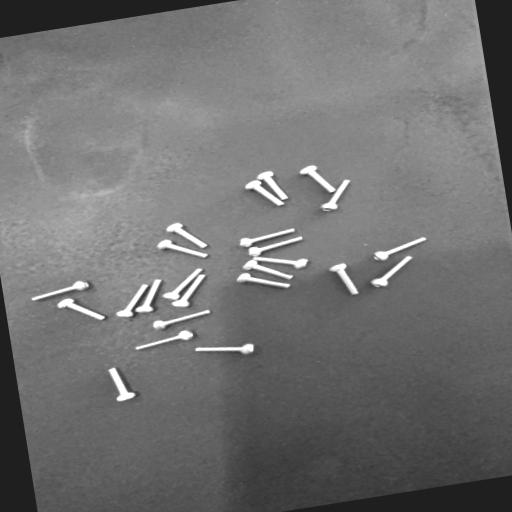Bolt: (371, 256, 412, 287), (164, 268, 202, 300), (374, 238, 426, 261), (136, 330, 194, 349), (32, 281, 89, 300), (154, 311, 211, 330), (249, 237, 302, 257), (117, 284, 149, 317), (58, 298, 105, 320), (173, 275, 205, 307), (167, 223, 207, 248), (240, 229, 295, 247), (245, 180, 283, 206), (300, 165, 335, 192), (243, 260, 292, 279), (158, 240, 208, 258), (321, 180, 350, 211), (257, 171, 288, 200), (109, 368, 136, 401), (330, 264, 358, 295), (135, 280, 161, 312), (237, 273, 290, 288), (195, 344, 254, 355), (255, 257, 308, 268)
